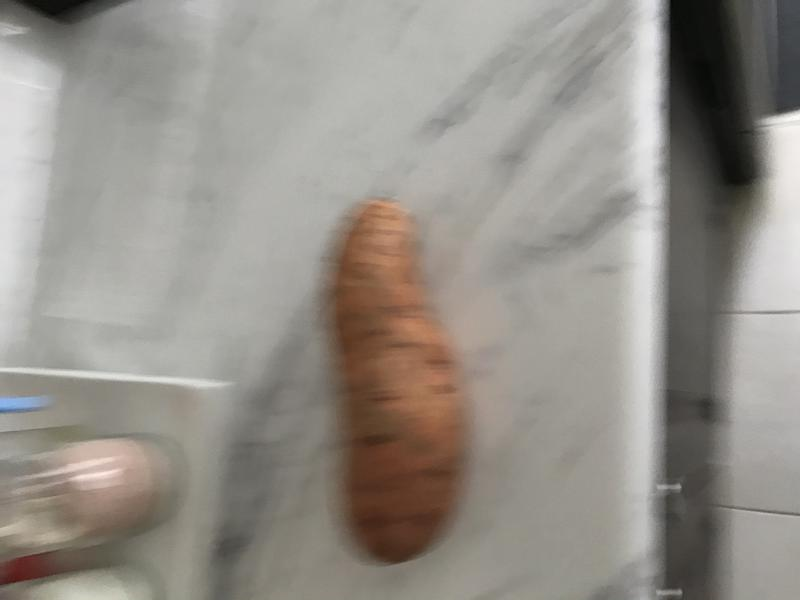sweet_potato: (319, 187, 484, 580)
